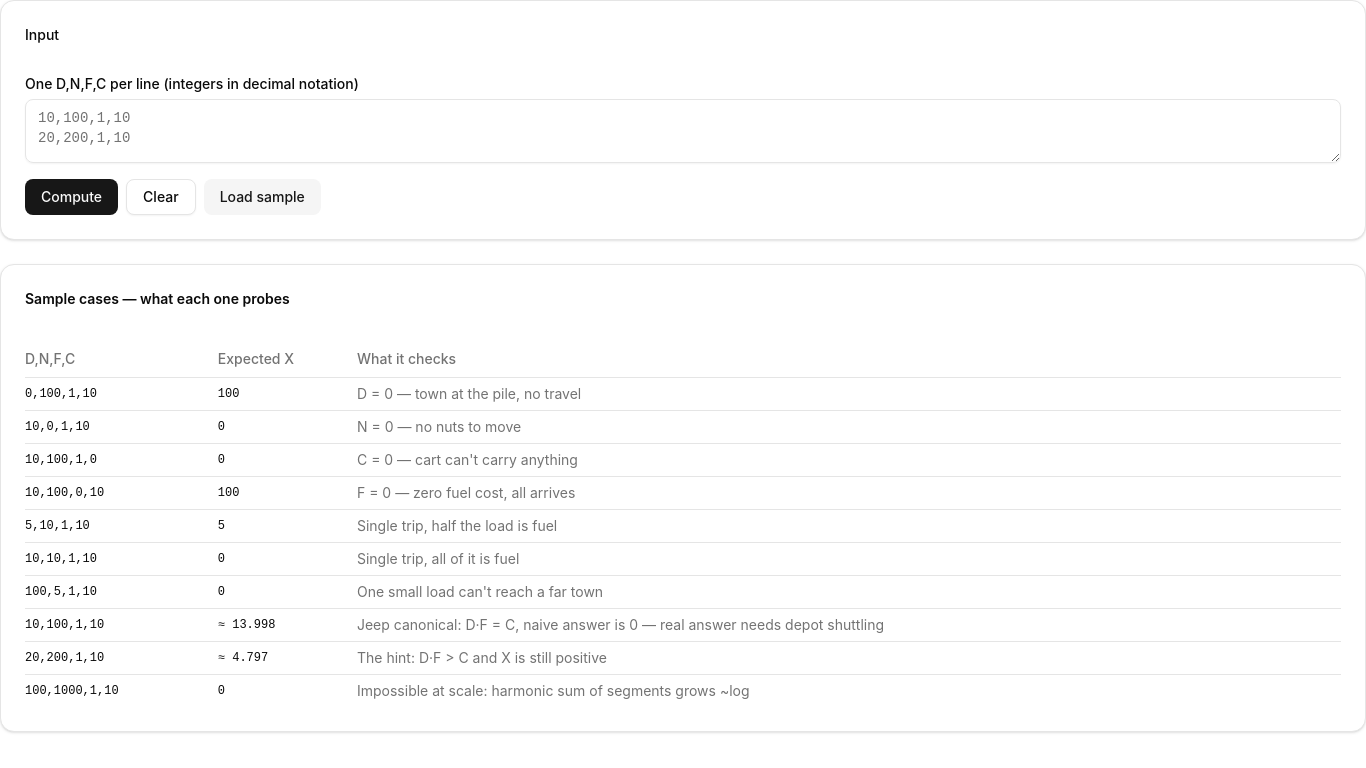
it: <NutForm /> › typing then computing renders the canonical jeep result (NOT 0)
Type "10,100,1,10" into the text box labelled "One D,N,F,C per line (integers in decimal notation)" at [683, 131], box [25,99,1341,163]
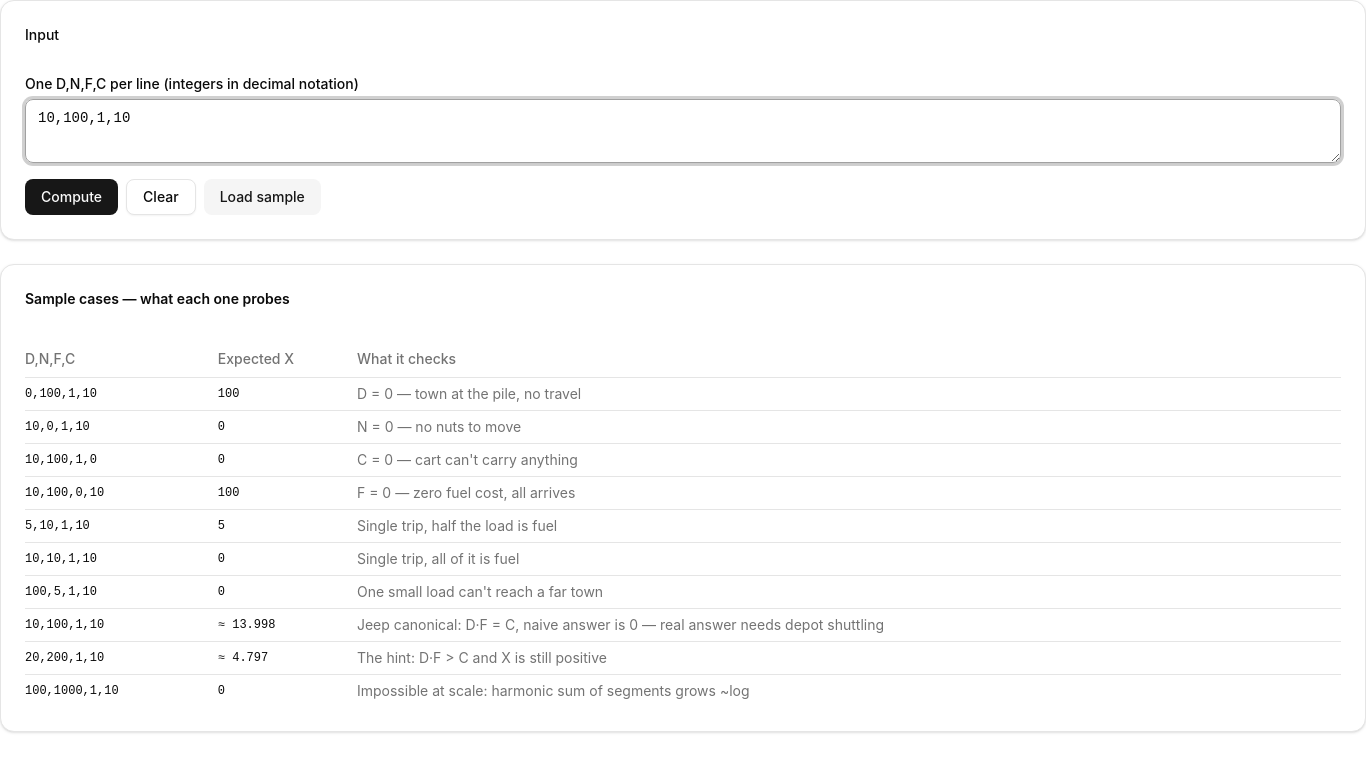
Click the button "Compute" at [72, 197], box [25,179,118,215]
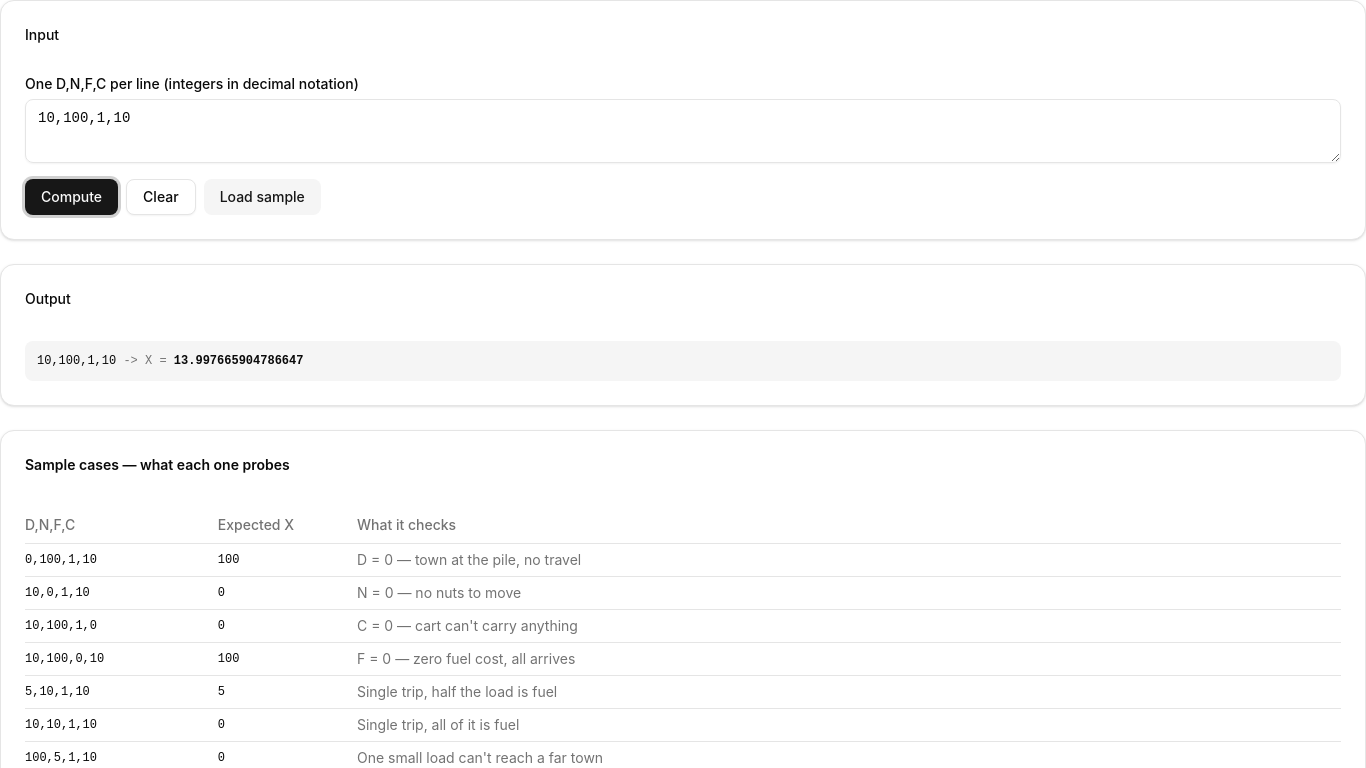
Check: the text "-> X =" is shown, box [116,354,174,368]
Check: the text "13.997665904786647" is shown, box [174,354,303,368]
